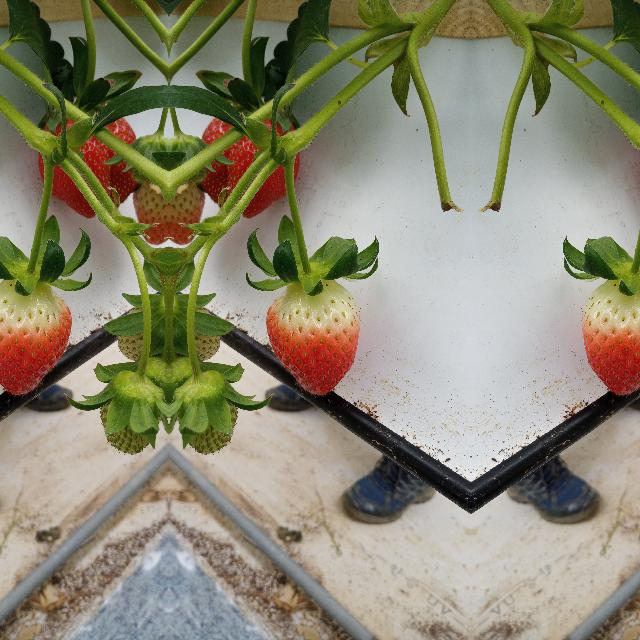Health_100: (197, 92, 307, 228), (29, 92, 139, 228)
Health_25: (180, 351, 234, 453), (102, 351, 156, 453)
Health_75: (264, 278, 360, 396), (0, 278, 72, 395), (581, 278, 640, 395)
